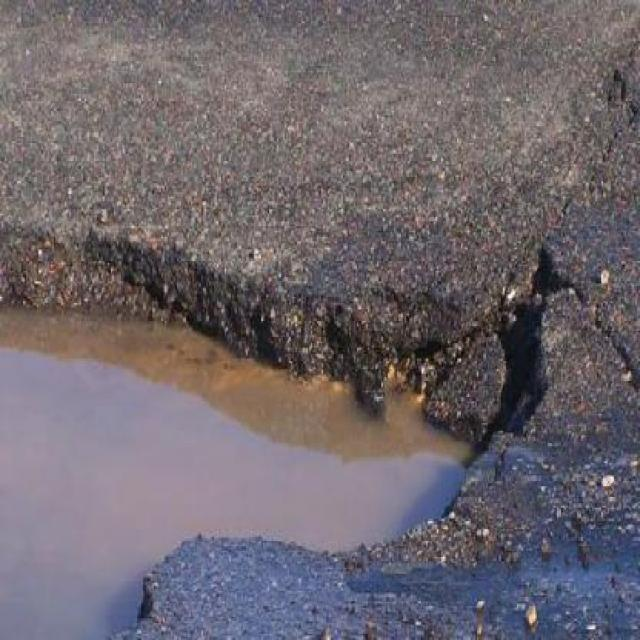Buraco: (0, 216, 585, 638)
